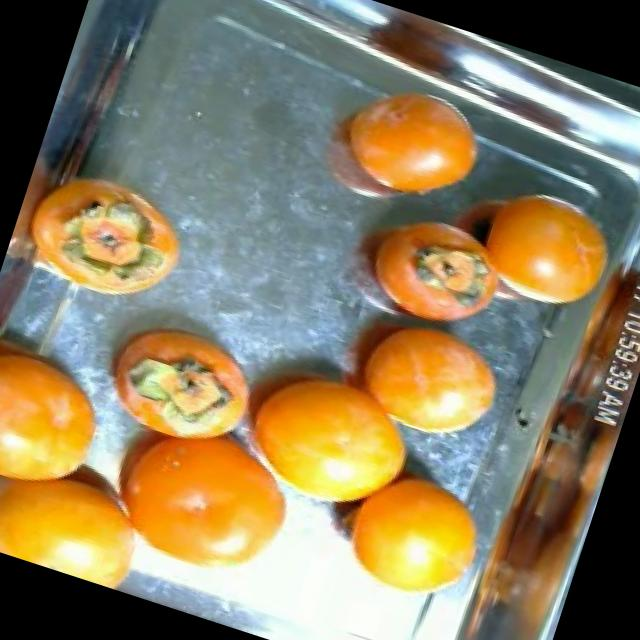Fruit: (80, 392, 328, 616), (292, 429, 512, 632), (293, 54, 508, 250), (303, 288, 530, 472), (73, 288, 280, 476), (1, 145, 212, 321), (323, 182, 530, 349), (446, 160, 640, 326), (0, 316, 140, 521)
